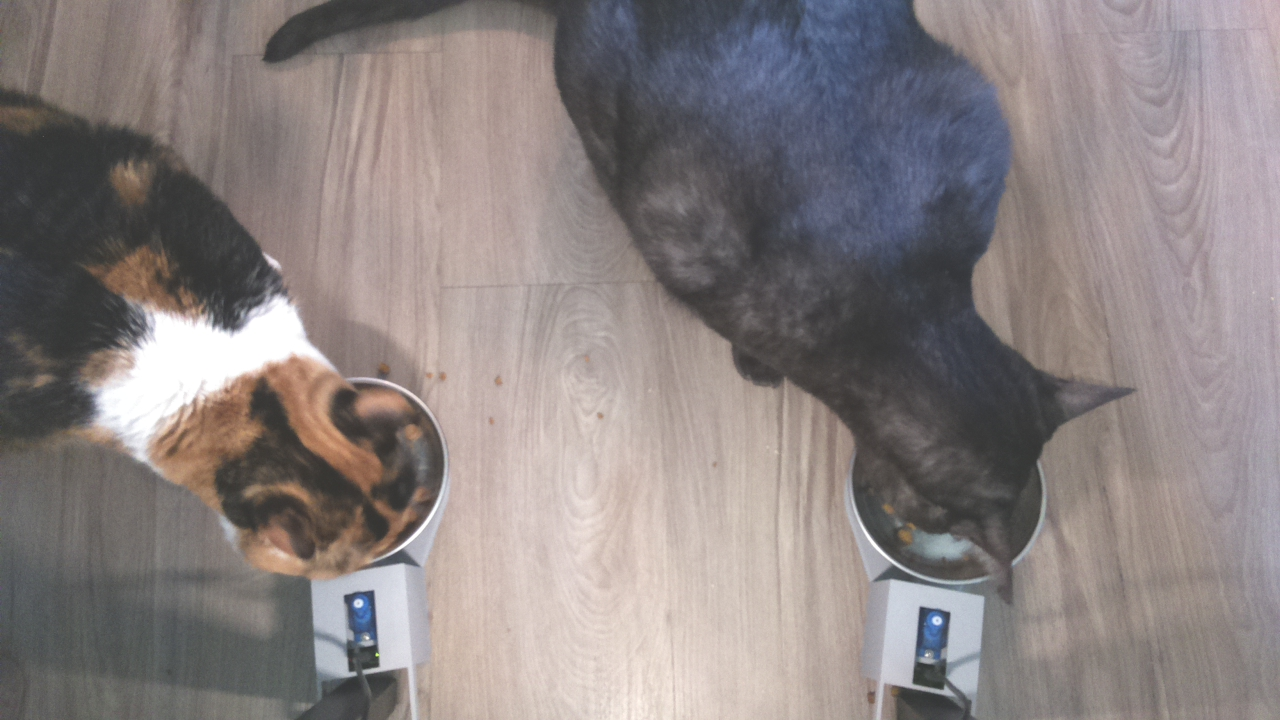bella_eating: (128, 294, 452, 585)
saki_eating: (806, 350, 1161, 607)
